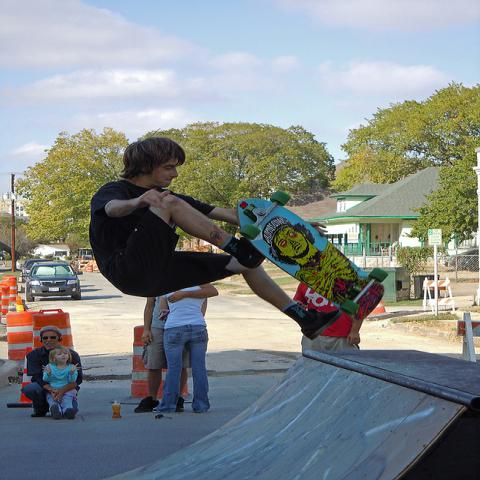car: (22, 262, 82, 301), (449, 249, 479, 271), (20, 259, 53, 273)
